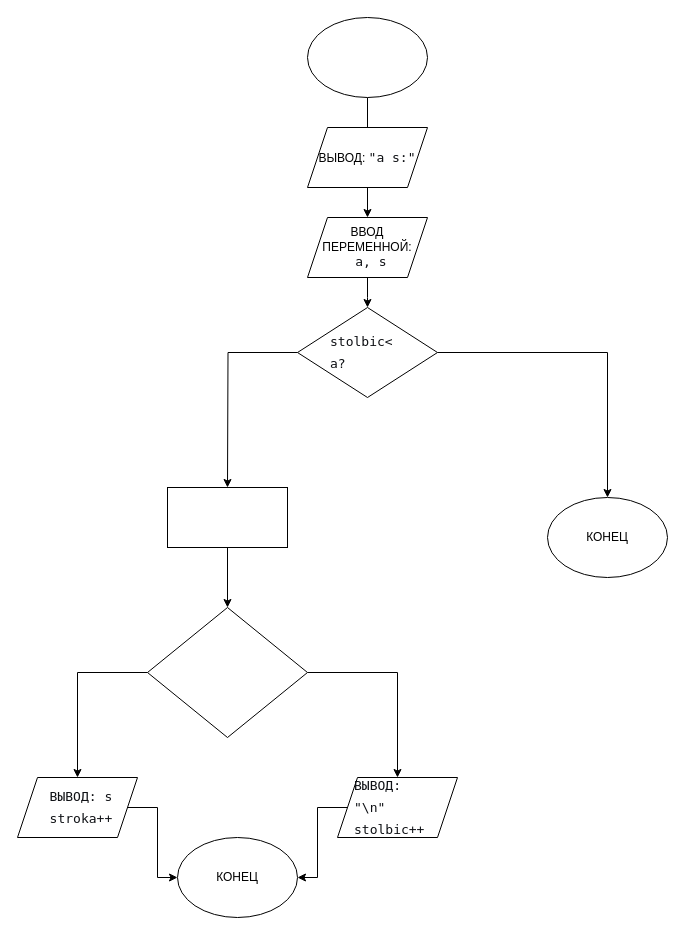
This 685x935 diagram has some shape labels left out. Here are the shapes that lost their labels. From the top down, the centre of each, then its label:
At (x=367, y=57): "НАЧАЛО".
At (x=227, y=517): "stroka = 0".
At (x=227, y=672): "stroka<a?".
